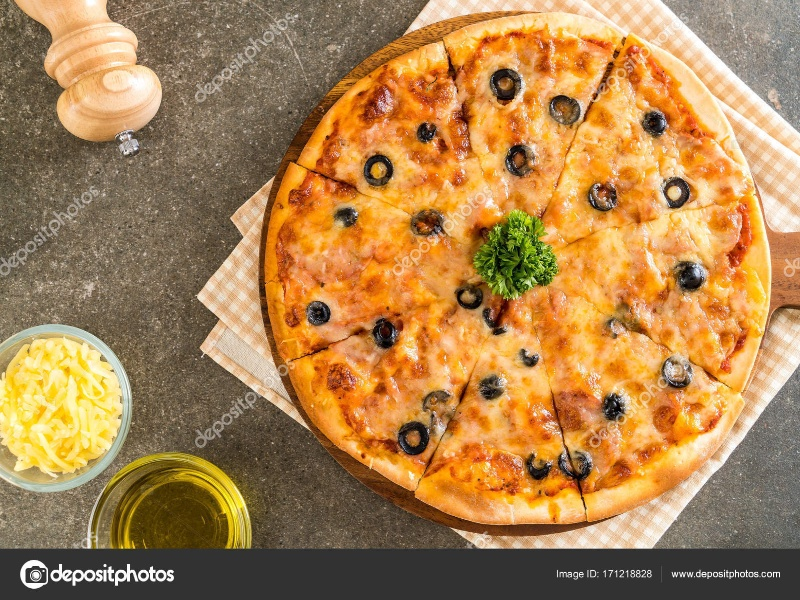olive noir: (645, 353, 698, 390), (549, 443, 594, 481), (657, 167, 695, 210), (395, 420, 437, 458), (297, 296, 343, 330), (485, 68, 526, 106), (668, 256, 709, 294), (498, 140, 538, 178), (585, 176, 624, 214), (357, 150, 397, 187), (368, 312, 404, 353), (403, 206, 449, 237), (544, 90, 581, 125), (448, 279, 487, 310), (479, 374, 512, 401), (523, 451, 550, 483)
